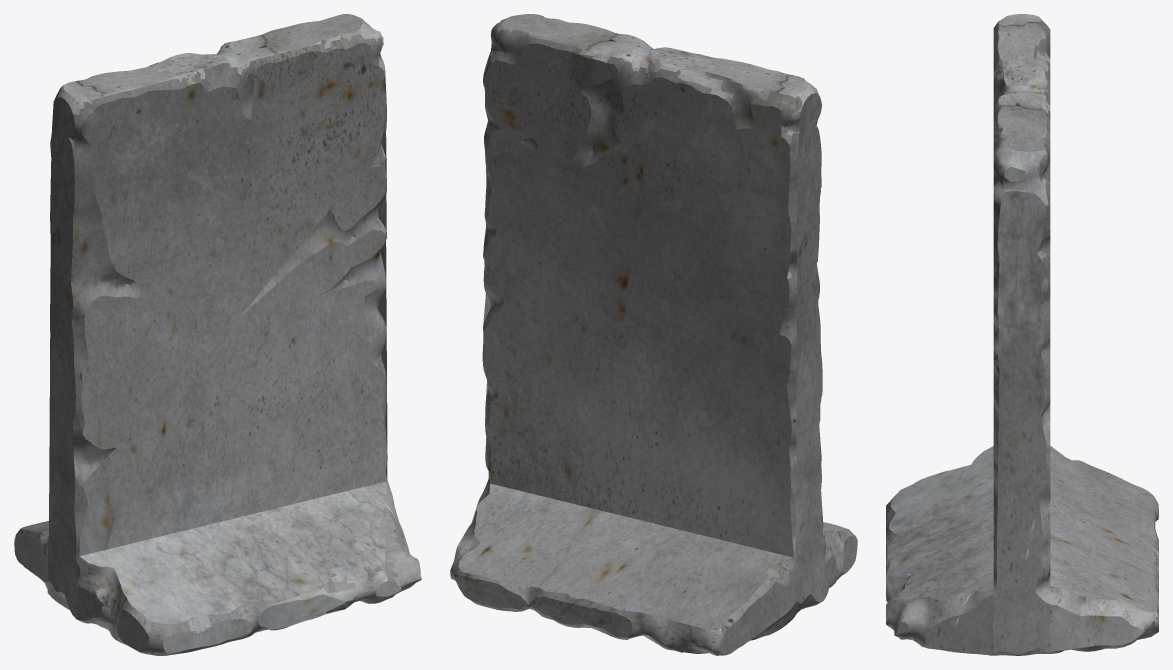
Rendered from Bet_blok_003-3.fbx.
3 renders of one model, left to right at view 1: azimuth 30°, elevation 25°; view 2: azimuth 150°, elevation 25°; view 3: azimuth 270°, elevation 25°, orthographic. The views are drawn at different scales.
Parts seen in each view (by area): view 1: Plane.002_dmg.006; view 2: Plane.002_dmg.006; view 3: Plane.002_dmg.006.
Part boxes in pixels (x1,y1,x2,y2): Plane.002_dmg.006: (14,14,421,655); Plane.002_dmg.006: (450,14,857,655); Plane.002_dmg.006: (886,14,1158,655).
Size of the model in its own units: 160 by 257 by 127.
